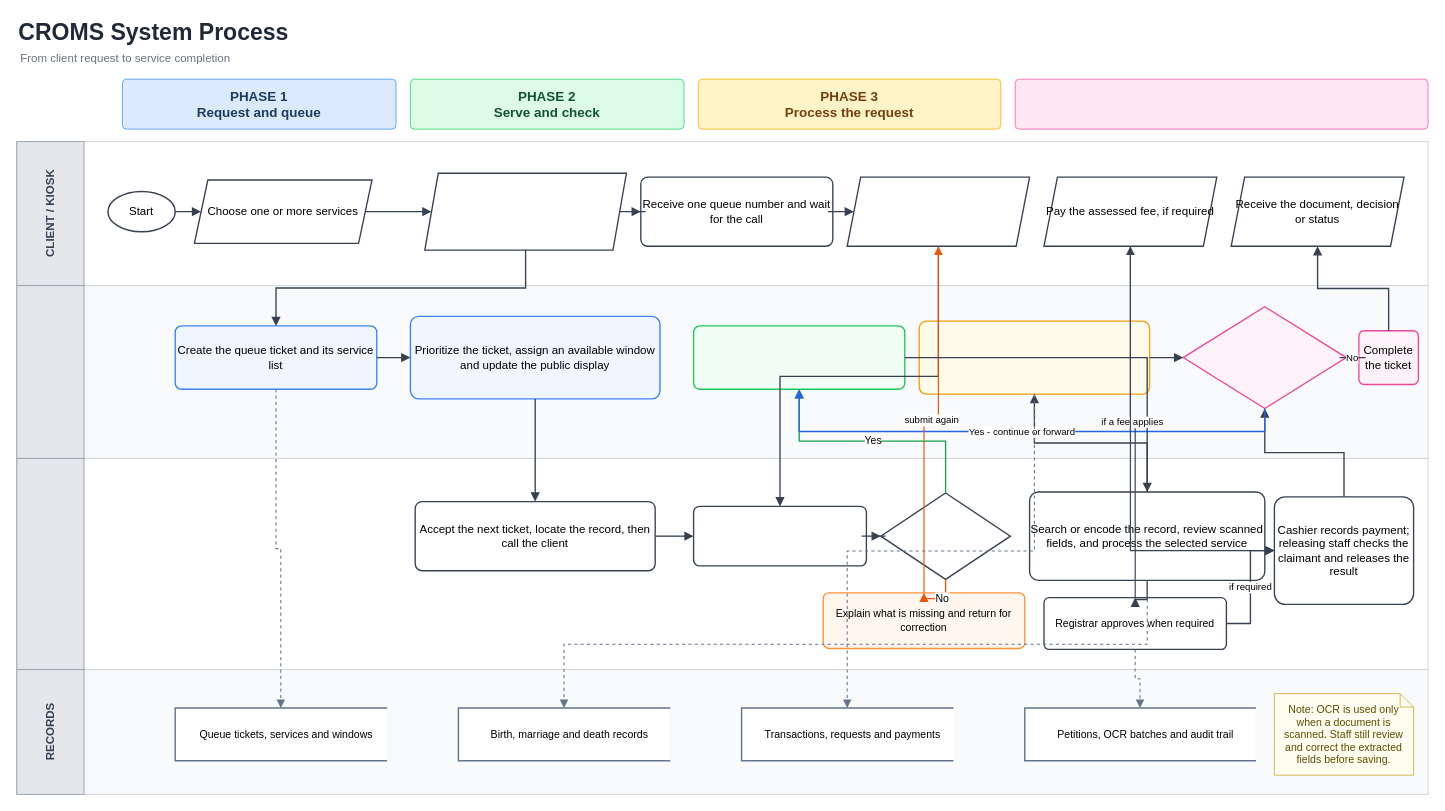
The diagram is 1445 pixels wide and 811 high, and some of its shapes have lost their labels. The centre of each missing label's shape, as x and y in pixels:
"Another service on the same ticket?" belongs at (x=1264, y=357).
"Check identity and requirements" belongs at (x=779, y=535).
"Complete?" belongs at (x=945, y=536).
"CROMS" belongs at (x=50, y=371).
"Enter name, purpose, contact number and take photo" belongs at (x=525, y=211).
"LCRO STAFF" belongs at (x=50, y=563).
"Open the module for the current service" belongs at (x=798, y=357).
"PHASE 4 Payment, release and completion" belongs at (x=1221, y=103).
"Present the needed documents or details" belongs at (x=938, y=211).
"Save or update the record, request and transaction status" belongs at (x=1034, y=357).
